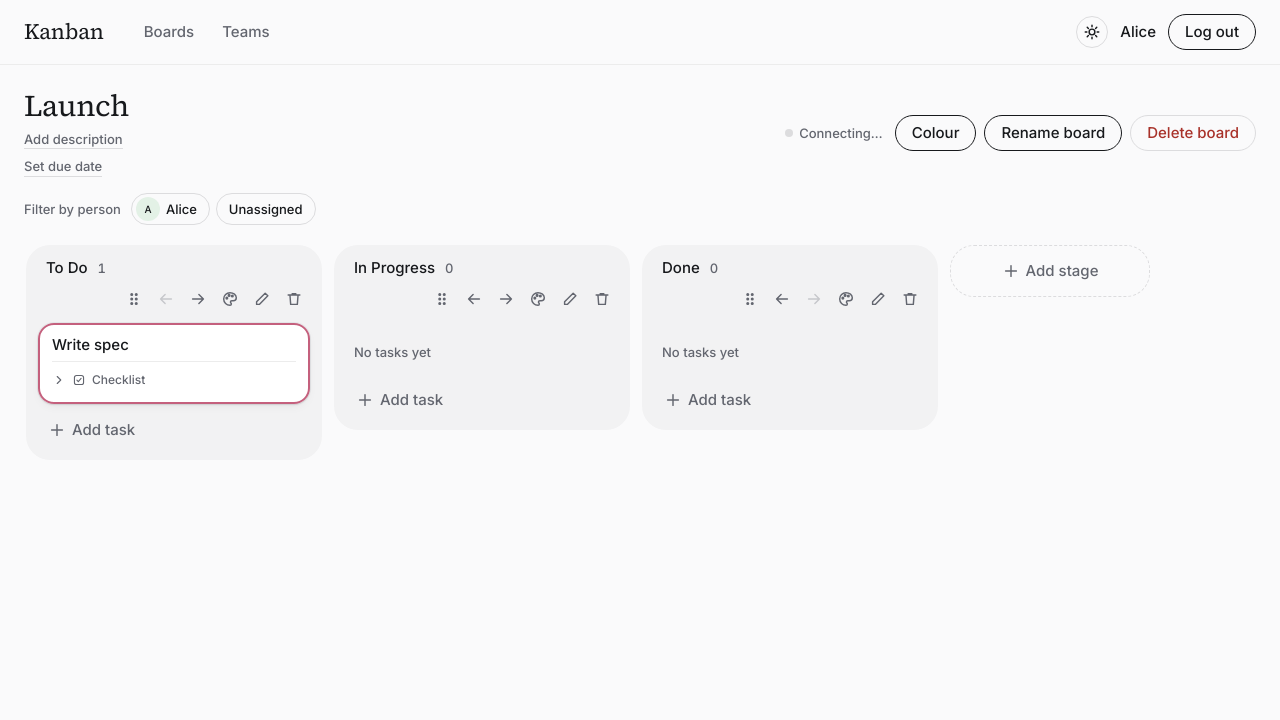
Test: task colours › clears a colour with None
The width and height of the screenshot is (1280, 720).
Click the button with aria-label "open task write spec": (90, 344) [52, 335, 129, 354]
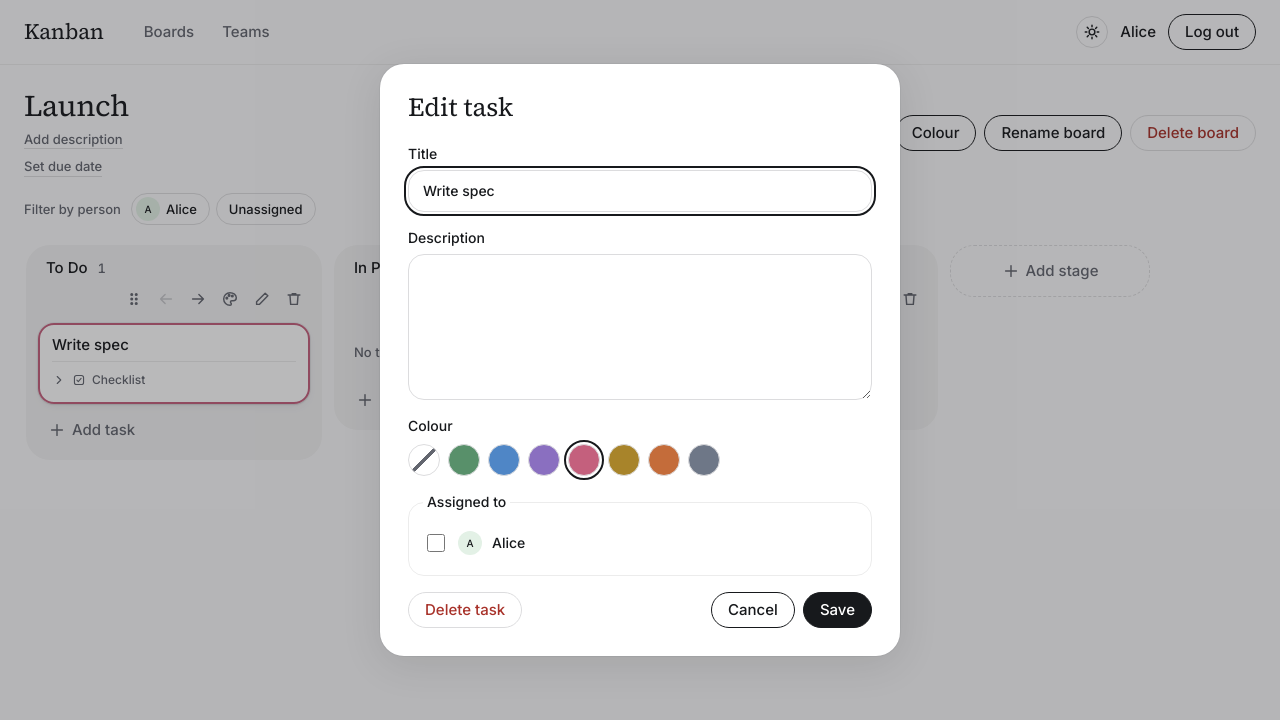
Expected: the radio button named "Rose" is checked, [568, 444, 600, 476]
Click the radio button named "None": (424, 460) [408, 444, 440, 476]
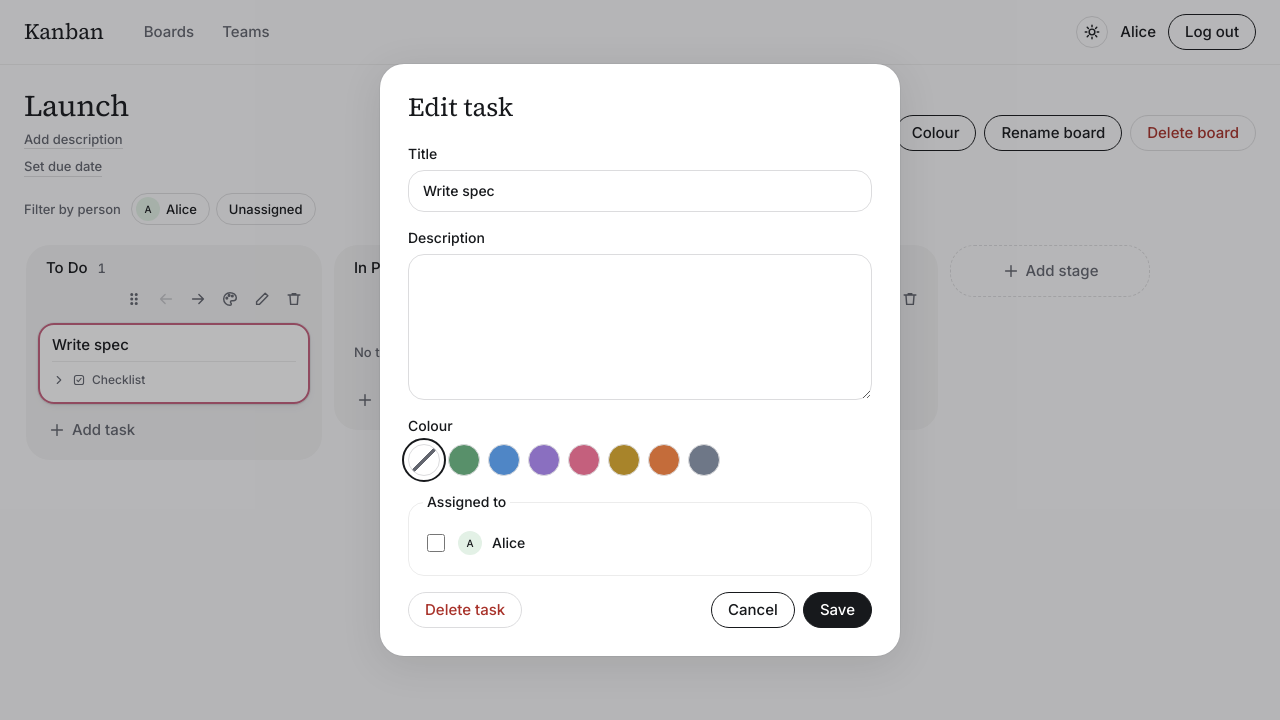
Click the button "Save": (837, 610) [803, 592, 872, 628]
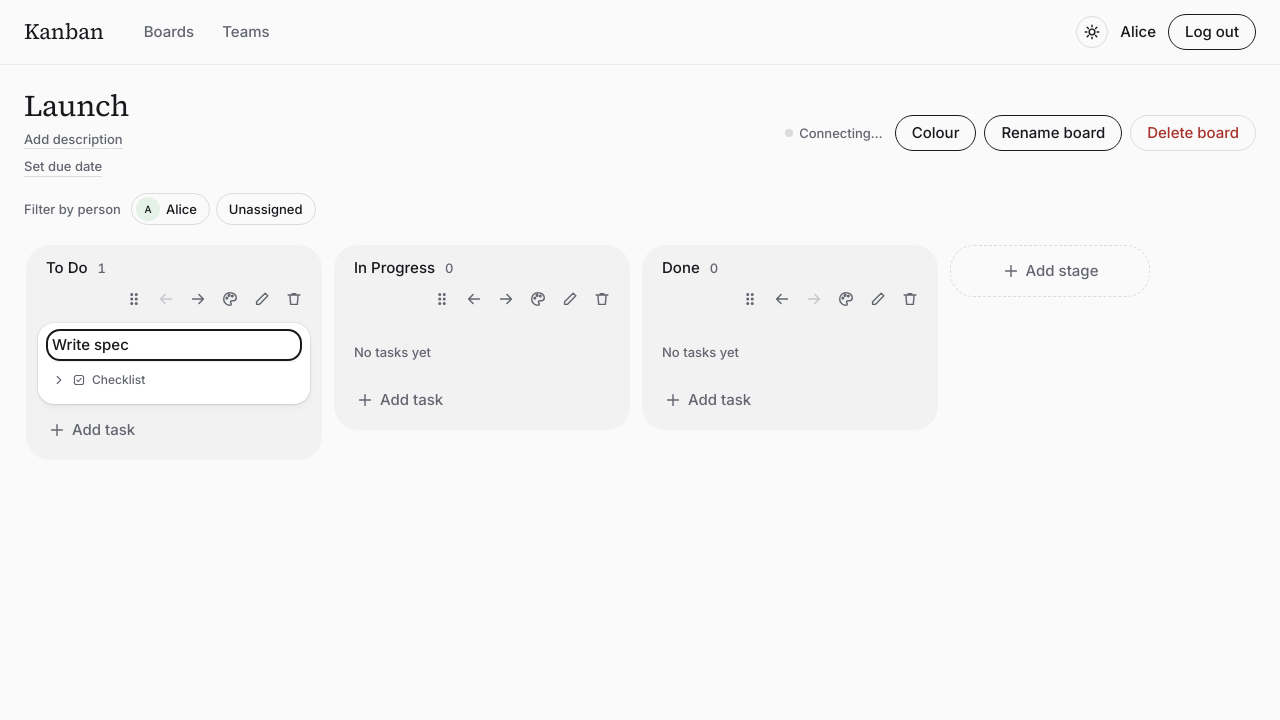
Expected: the dialog is gone
